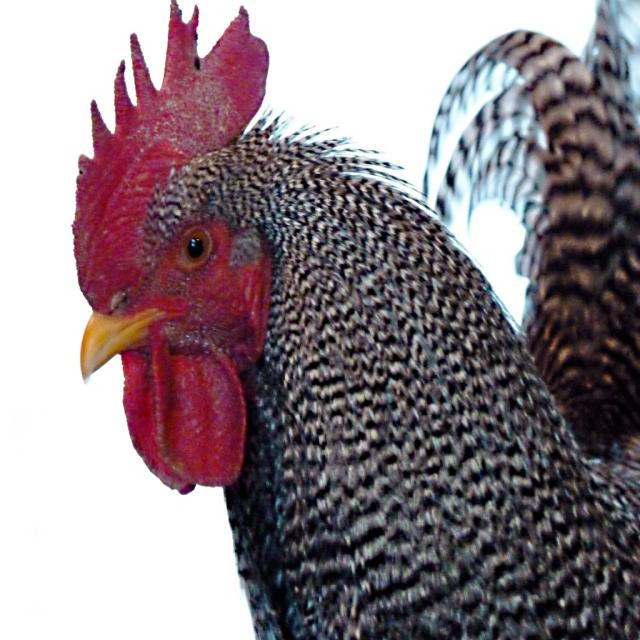Chicken: (81, 5, 640, 639)
